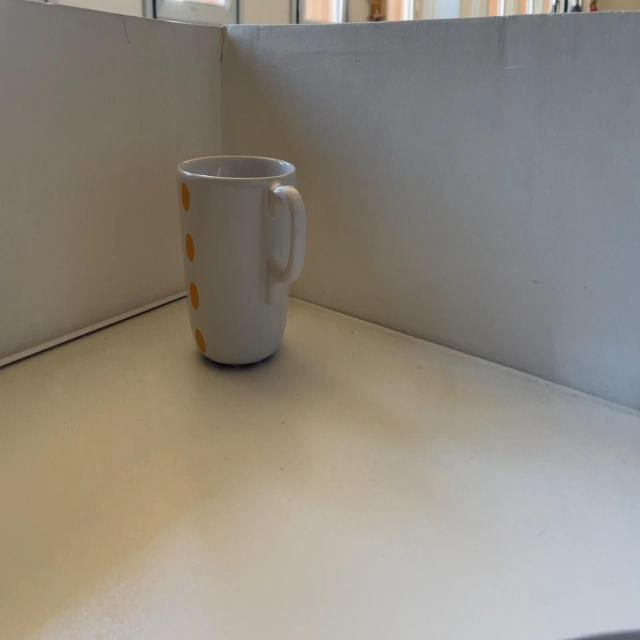cup: (176, 158, 308, 368)
